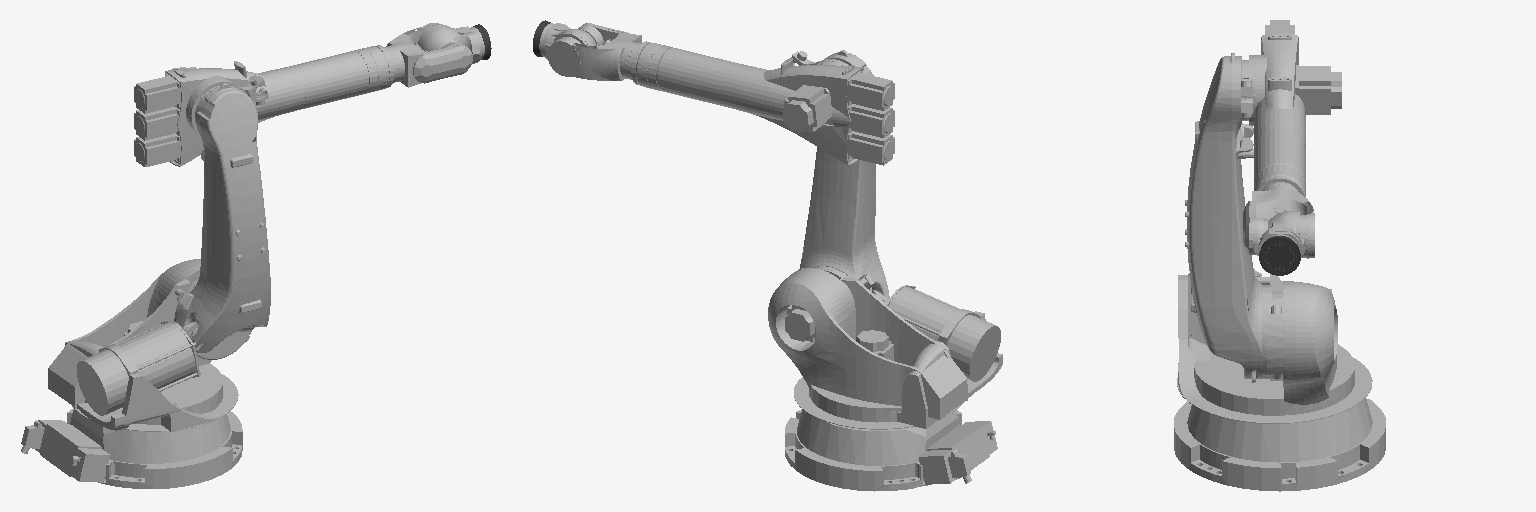
robot.urdf — kuka_kr2102:
<?xml version="1.0" ?>
<!-- =================================================================================== -->
<!-- |    This document was autogenerated by xacro from kr2102.xacro                   | -->
<!-- |    EDITING THIS FILE BY HAND IS NOT RECOMMENDED                                 | -->
<!-- =================================================================================== -->
<robot name="kuka_kr2102" xmlns:xacro="http://ros.org/wiki/xacro">
  <!--degrees to radians-->
  <!-- link list -->
  <link name="base_link">
    <inertial>
      <origin rpy="0 0 0" xyz="-0.027804 0.00039112 0.14035"/>
      <mass value="1572.9"/>
      <inertia ixx="89.282" ixy="-0.47721" ixz="0.85562" iyy="107.51" iyz="0.0067576" izz="172.02"/>
    </inertial>
    <visual>
      <origin rpy="-1.570796327 0 0" xyz="0 0 0"/>
      <geometry>
        <mesh filename="package://aimen_kuka/meshes/kr2102/visual/base_link.stl"/>
      </geometry>
      <material name="kuka_color">
        <color rgba="0.75294 0.75294 0.75294 1"/>
      </material>
    </visual>
    <collision>
      <origin rpy="-1.570796327 0 0" xyz="0 0 0"/>
      <geometry>
        <mesh filename="package://aimen_kuka/meshes/kr2102/collision/base_link.stl"/>
      </geometry>
      <material name="yellow">
        <color rgba="0 1 1 1"/>
      </material>
    </collision>
  </link>
  <link name="link_1">
    <inertial>
      <origin rpy="0 0 0" xyz="-0.036811 -0.024697 0.56577"/>
      <mass value="1385.5"/>
      <inertia ixx="90.873" ixy="33.809" ixz="17.159" iyy="147.03" iyz="0.063634" izz="168.19"/>
    </inertial>
    <visual>
      <origin rpy="0 0 0" xyz="0 0 0"/>
      <geometry>
        <mesh filename="package://aimen_kuka/meshes/kr2102/visual/link_1.stl"/>
      </geometry>
      <material name="kuka_color"/>
    </visual>
    <collision>
      <origin rpy="0 0 0" xyz="0 0 0"/>
      <geometry>
        <mesh filename="package://aimen_kuka/meshes/kr2102/collision/link_1.stl"/>
      </geometry>
      <material name="yellow"/>
    </collision>
  </link>
  <link name="link_2">
    <inertial>
      <origin rpy="0 0 0" xyz="0.016923 -0.19196 0.44751"/>
      <mass value="958.62"/>
      <inertia ixx="180.42" ixy="-0.83462" ixz="0.32549" iyy="177.68" iyz="-20.82" izz="20.495"/>
    </inertial>
    <visual>
      <origin rpy="-1.570796327 0 0" xyz="0 0 0"/>
      <geometry>
        <mesh filename="package://aimen_kuka/meshes/kr2102/visual/link_2.stl"/>
      </geometry>
      <material name="kuka_color"/>
    </visual>
    <collision>
      <origin rpy="0 0 0" xyz="0 0 0"/>
      <geometry>
        <mesh filename="package://aimen_kuka/meshes/kr2102/collision/link_2.stl"/>
      </geometry>
      <material name="yellow"/>
    </collision>
  </link>
  <link name="link_3">
    <inertial>
      <origin rpy="0 0 0" xyz="0.18842 0.18344 -0.042799"/>
      <mass value="710.03"/>
      <inertia ixx="11.887" ixy="-0.12154" ixz="-1.3604" iyy="98.805" iyz="-0.056505" izz="96.251"/>
    </inertial>
    <visual>
      <origin rpy="-1.570796327 0 0" xyz="0 0 0"/>
      <geometry>
        <mesh filename="package://aimen_kuka/meshes/kr2102/visual/link_3.stl"/>
      </geometry>
      <material name="kuka_color"/>
    </visual>
    <collision>
      <origin rpy="0 0 0" xyz="0 0 0"/>
      <geometry>
        <mesh filename="package://aimen_kuka/meshes/kr2102/collision/link_3.stl"/>
      </geometry>
      <material name="yellow"/>
    </collision>
  </link>
  <link name="link_4">
    <inertial>
      <origin rpy="0 0 0" xyz="0.27146 -0.007326 5.2775E-05"/>
      <mass value="173.73"/>
      <inertia ixx="1.8001" ixy="-0.18515" ixz="0.00051232" iyy="5.514" iyz="0.00070469" izz="6.3498"/>
    </inertial>
    <visual>
      <origin rpy="-1.570796327 0 0" xyz="0 0 0"/>
      <geometry>
        <mesh filename="package://aimen_kuka/meshes/kr2102/visual/link_4.stl"/>
      </geometry>
      <material name="kuka_color"/>
    </visual>
    <collision>
      <origin rpy="0 0 0" xyz="0 0 0"/>
      <geometry>
        <mesh filename="package://aimen_kuka/meshes/kr2102/collision/link_4.stl"/>
      </geometry>
      <material name="yellow"/>
    </collision>
  </link>
  <link name="link_5">
    <inertial>
      <origin rpy="0 0 0" xyz="0.04379 0.025984 3.5491E-07"/>
      <mass value="72.17"/>
      <inertia ixx="0.3938" ixy="-0.085332" ixz="1.7223E-06" iyy="0.68945" iyz="-7.0292E-06" izz="0.67292"/>
    </inertial>
    <visual>
      <origin rpy="-1.570796327 0 0" xyz="0 0 0"/>
      <geometry>
        <mesh filename="package://aimen_kuka/meshes/kr2102/visual/link_5.stl"/>
      </geometry>
      <material name="kuka_color"/>
    </visual>
    <collision>
      <origin rpy="0 0 0" xyz="0 0 0"/>
      <geometry>
        <mesh filename="package://aimen_kuka/meshes/kr2102/collision/link_5.stl"/>
      </geometry>
      <material name="yellow"/>
    </collision>
  </link>
  <link name="link_6">
    <inertial>
      <origin rpy="0 0 0" xyz="-0.017956 -1.5237E-05 0.00015484"/>
      <mass value="6.3154"/>
      <inertia ixx="0.031746" ixy="1.7673E-07" ixz="-6.6558E-06" iyy="0.016686" iyz="1.4304E-07" izz="0.016723"/>
    </inertial>
    <visual>
      <origin rpy="0 0 0" xyz="0 0 0"/>
      <geometry>
        <mesh filename="package://aimen_kuka/meshes/kr2102/visual/link_6.stl"/>
      </geometry>
      <material name="lt_black">
        <color rgba="0.3 0.3 0.3 1"/>
      </material>
    </visual>
    <collision>
      <origin rpy="0 0 0" xyz="0 0 0"/>
      <geometry>
        <mesh filename="package://aimen_kuka/meshes/kr2102/collision/link_6.stl"/>
      </geometry>
      <material name="yellow"/>
    </collision>
  </link>
  <link name="tool0"/>
  <!-- end of link list -->
  <!-- joint list -->
  <joint name="joint_1" type="revolute">
    <parent link="base_link"/>
    <child link="link_1"/>
    <origin rpy="0 0 0" xyz="-0.00262 0.00097586 0.33099"/>
    <axis xyz="0 0 1"/>
    <limit effort="0" lower="-3.228859205" upper="3.228859205" velocity="2.146755039"/>
  </joint>
  <joint name="joint_2" type="revolute">
    <parent link="link_1"/>
    <child link="link_2"/>
    <origin rpy="0 0 0" xyz="0.35277 -0.037476 0.4192"/>
    <axis xyz="0 1 0"/>
    <limit effort="0" lower="-0.785398185" upper="1.483529905" velocity="2.007128695"/>
  </joint>
  <joint name="joint_3" type="revolute">
    <parent link="link_2"/>
    <child link="link_3"/>
    <origin rpy="0 0 0" xyz="-9.8483E-05 -0.1475 1.2499"/>
    <axis xyz="0 1 0"/>
    <limit effort="0" lower="-3.66519153" upper="1.134464045" velocity="1.954768816"/>
  </joint>
  <joint name="joint_4" type="revolute">
    <parent link="link_3"/>
    <child link="link_4"/>
    <origin rpy="0 0 0" xyz="0.95795 0.184 -0.055059"/>
    <axis xyz="1 0 0"/>
    <limit effort="0" lower="-6.10865255" upper="6.10865255" velocity="3.124139447"/>
  </joint>
  <joint name="joint_5" type="revolute">
    <parent link="link_4"/>
    <child link="link_5"/>
    <origin rpy="0 0 0" xyz="0.542 0 0"/>
    <axis xyz="0 1 0"/>
    <limit effort="0" lower="-2.181661625" upper="2.181661625" velocity="3.001966396"/>
  </joint>
  <joint name="joint_6" type="revolute">
    <parent link="link_5"/>
    <child link="link_6"/>
    <origin rpy="0 0 0" xyz="0.1925 0 0"/>
    <axis xyz="1 0 0"/>
    <limit effort="0" lower="-6.10865255" upper="6.10865255" velocity="3.822271167"/>
  </joint>
  <joint name="tool0" type="fixed">
    <parent link="link_6"/>
    <child link="tool0"/>
    <origin rpy="0 0 0" xyz="0.0375 0 -0.00023924"/>
  </joint>
  <!-- rename 'Link1' to 'link_1', maintain bw-compatibility -->
  <link name="Link1"/>
  <joint name="Link1-link_1" type="fixed">
    <parent link="link_1"/>
    <child link="Link1"/>
    <origin rpy="0 0 0" xyz="0 0 0"/>
  </joint>
  <!-- end of joint list -->
</robot>

--- Render facts (derived) ---
The picture shows the robot from 3 angles, left to right: view 1: azimuth 30°, elevation 25°; view 2: azimuth 150°, elevation 25°; view 3: azimuth 270°, elevation 25°; orthographic projection.
Robot: kuka_kr2102 — 9 links, 8 joints (6 revolute, 2 fixed); root link base_link; default pose: all joints at 0.
Links seen in each view (by area): view 1: link_1, link_2, link_3, base_link, link_4, link_5; view 2: link_1, link_3, base_link, link_2, link_4, link_5; view 3: link_2, link_1, base_link, link_3, link_4, link_6, link_5.
Link boxes in pixels (x1=…): link_1: x1=48, y1=259, x2=238, y2=431; link_2: x1=174, y1=83, x2=270, y2=359; link_3: x1=134, y1=51, x2=368, y2=166; base_link: x1=21, y1=408, x2=242, y2=488; link_4: x1=354, y1=23, x2=472, y2=93; link_5: x1=418, y1=24, x2=484, y2=63; link_1: x1=768, y1=268, x2=1002, y2=429; link_3: x1=656, y1=48, x2=894, y2=165; base_link: x1=785, y1=409, x2=997, y2=491; link_2: x1=799, y1=50, x2=889, y2=302; link_4: x1=547, y1=23, x2=672, y2=90; link_5: x1=539, y1=23, x2=596, y2=59; link_2: x1=1185, y1=53, x2=1282, y2=382; link_1: x1=1177, y1=268, x2=1372, y2=423; base_link: x1=1174, y1=398, x2=1385, y2=491; link_3: x1=1241, y1=20, x2=1341, y2=183; link_4: x1=1243, y1=164, x2=1314, y2=258; link_6: x1=1259, y1=236, x2=1300, y2=275; link_5: x1=1254, y1=211, x2=1304, y2=257.
Size in the robot's own frame: 2.76 by 0.9994 by 2.21 metres.
7 mesh visuals loaded from 7 distinct referenced files (7 binary STL).
